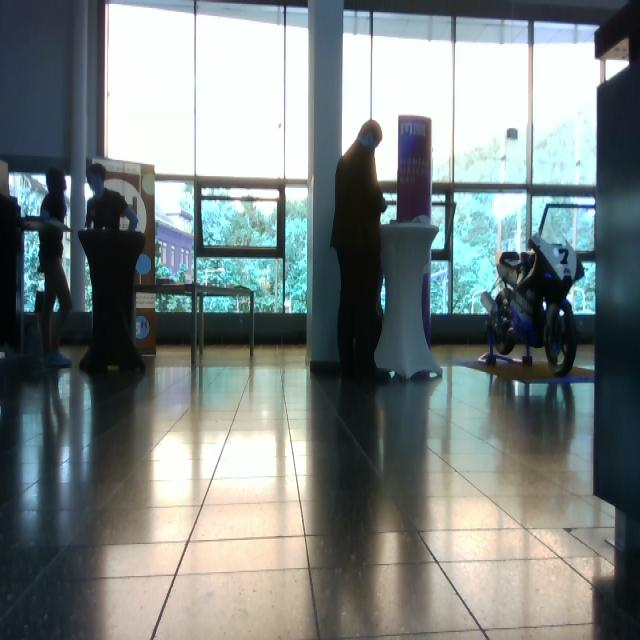light bulb: (358, 120, 383, 149), (136, 253, 152, 276)
motorcycle: (480, 203, 585, 379)
person: (330, 120, 392, 384), (28, 166, 73, 369)
pillar: (307, 1, 344, 372)
tiled floor: (2, 340, 622, 638)
